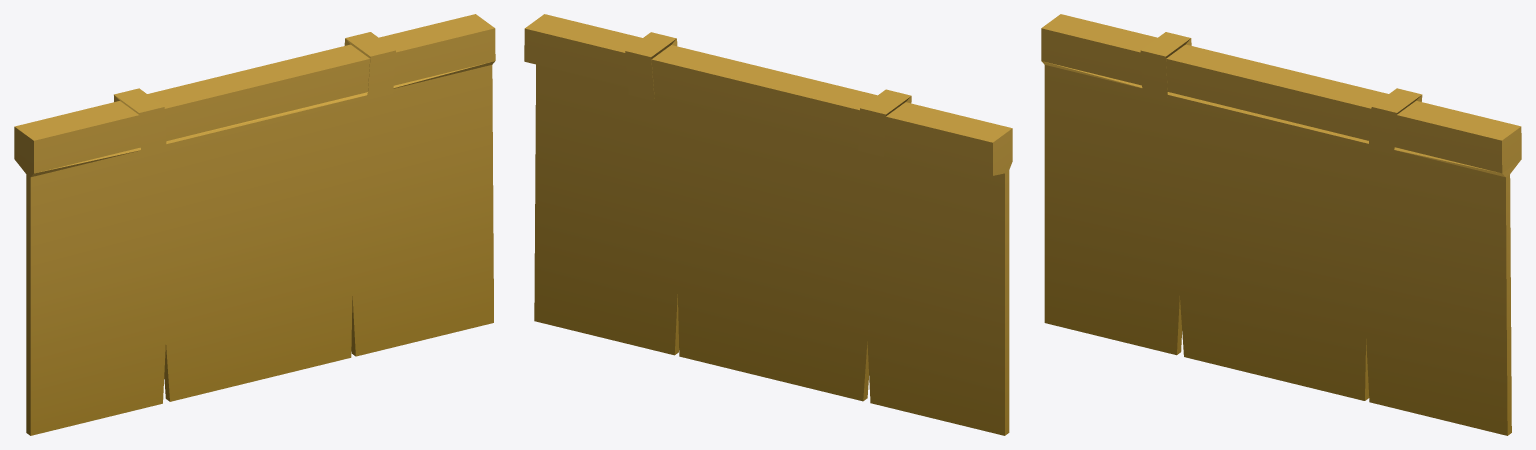
The model's file is Noren_Blank_Yellow.gltf.
3 renders of one model, left to right at view 1: azimuth 30°, elevation 25°; view 2: azimuth 150°, elevation 25°; view 3: azimuth 330°, elevation 25°, orthographic.
Parts seen in each view (by area): view 1: Noren_Blank_Yellow; view 2: Noren_Blank_Yellow; view 3: Noren_Blank_Yellow.
Boxes of the visible parts, x1,y1,x2,y2 form: Noren_Blank_Yellow: [14, 14, 495, 435]; Noren_Blank_Yellow: [524, 14, 1012, 435]; Noren_Blank_Yellow: [1041, 14, 1521, 435].
Bounding box in the file's own units: 1 × 0.6267 × 0.0953.
Materials: 1 (1 with a texture image).
